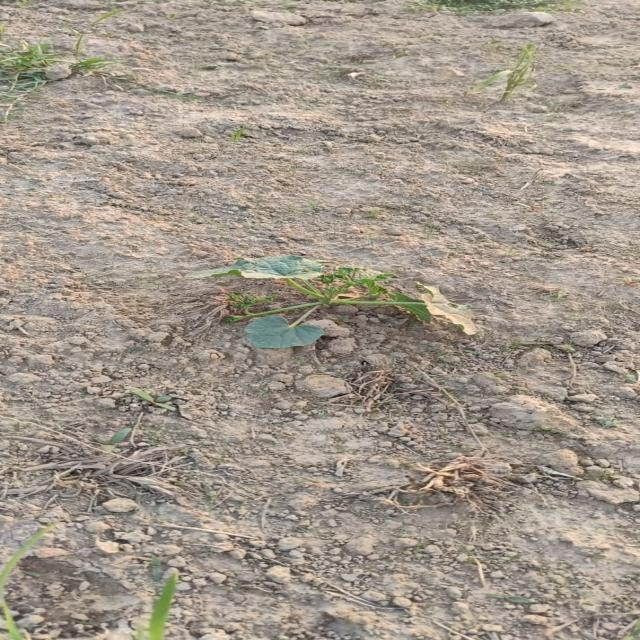plant: (191, 256, 474, 348)
